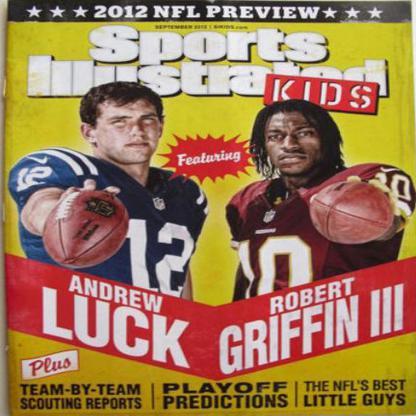face: (95, 97, 162, 164), (264, 115, 319, 174)
